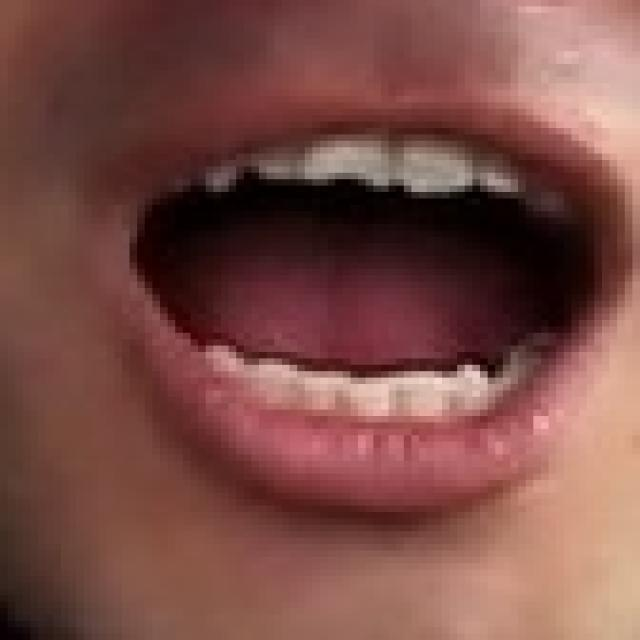open-mouth: (115, 90, 632, 512)
